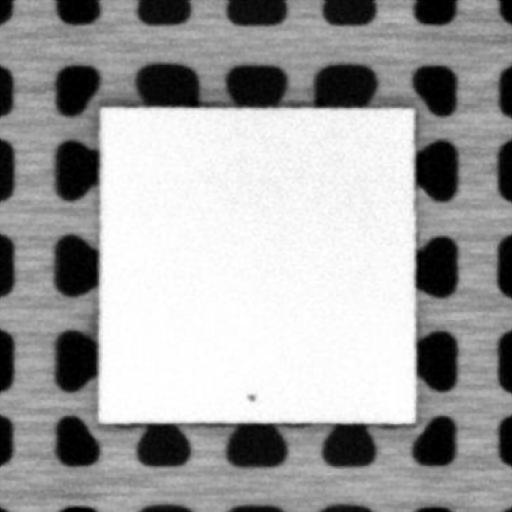DIE_INK: (244, 388, 256, 401)
